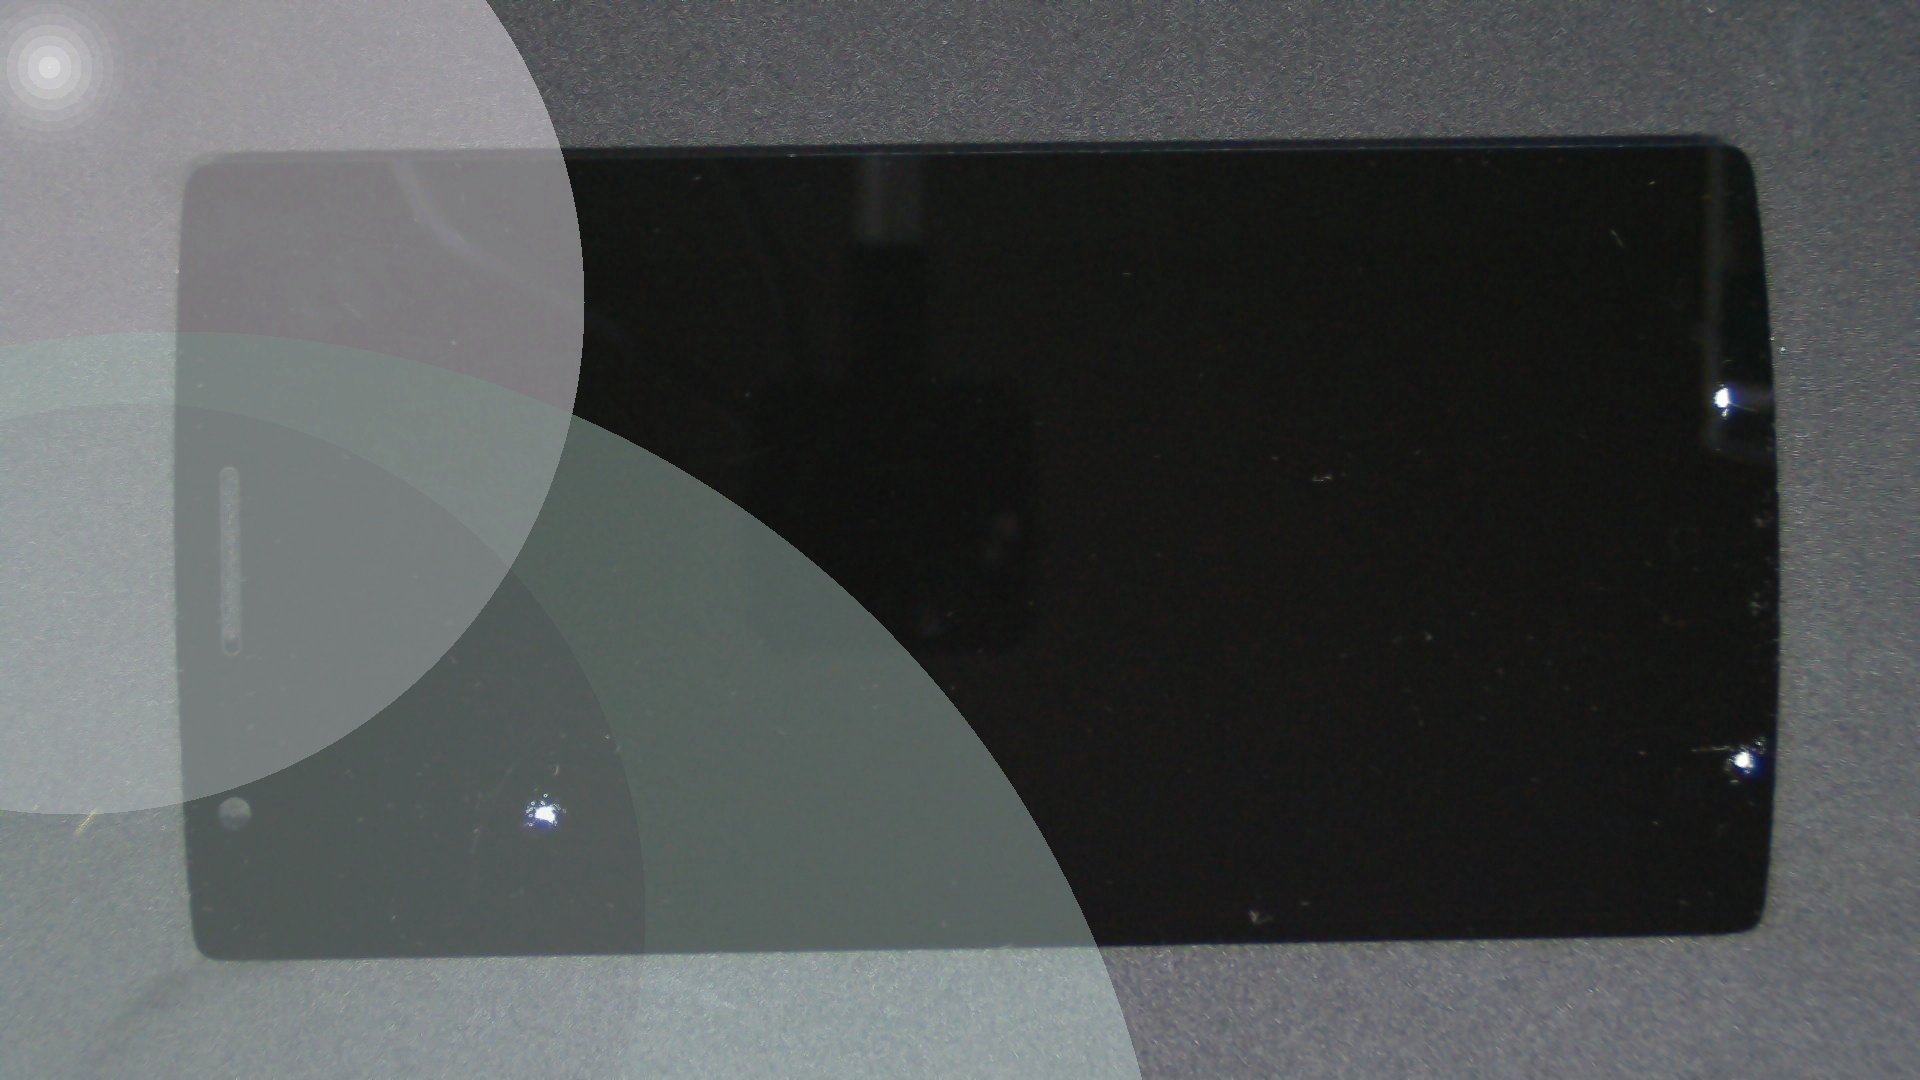oil: (881, 367, 1920, 1080), (860, 191, 1920, 575), (273, 396, 815, 1080)
